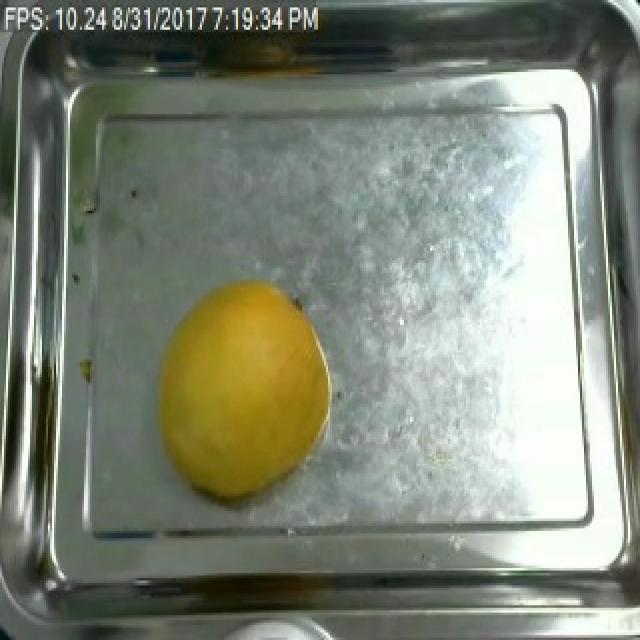fruit: (138, 268, 344, 513)
